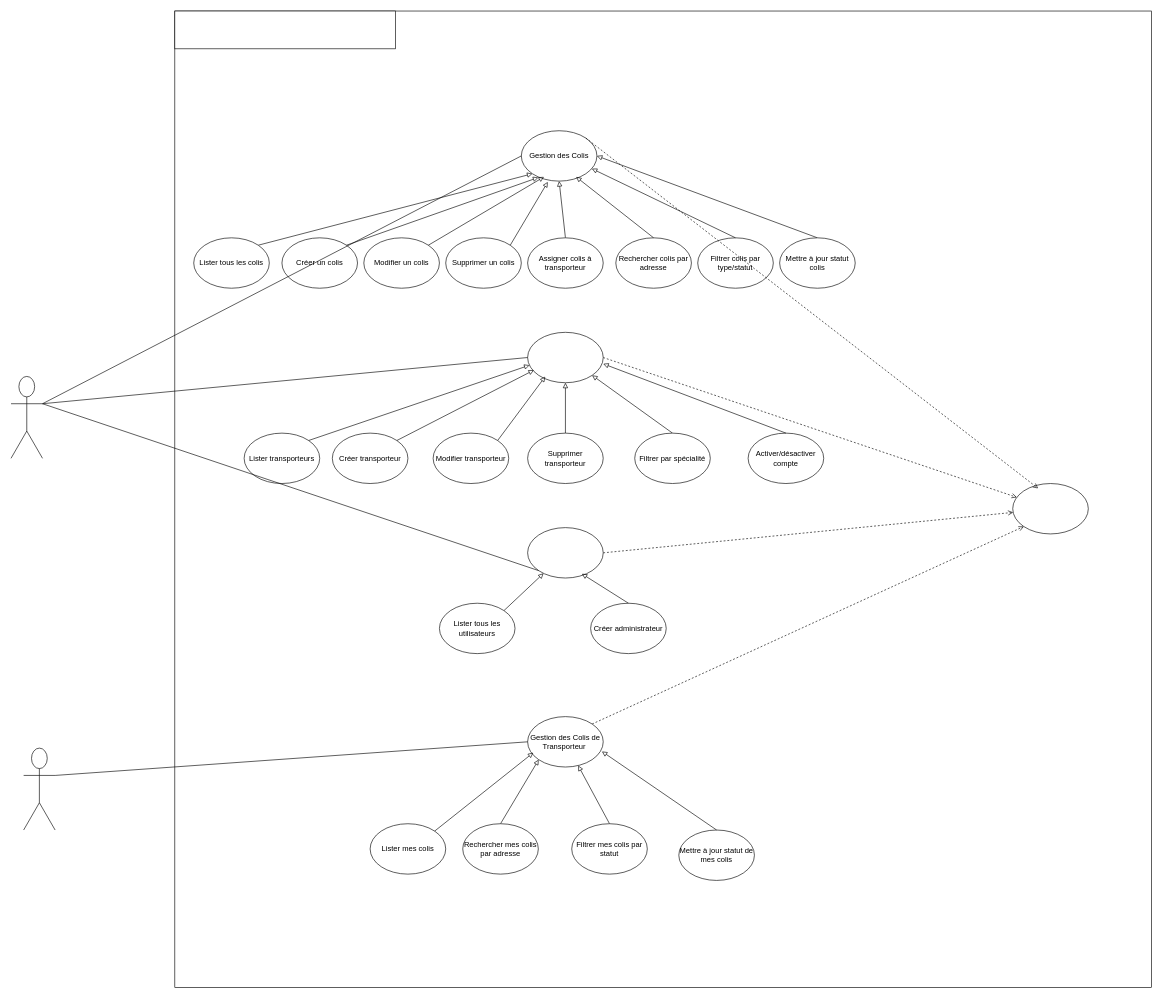
Image size: 1162x999. Some labels were removed from this diagram. The centre of each missing label's shape, as x and y in pixels:
Admin: the point at 26,417
Authentification: the point at 1050,508
Gestion des Transporteurs: the point at 565,357
Gestion des Utilisateurs: the point at 565,552
Système de Gestion de Colis et Transporteurs: the point at 284,29
Transporteur: the point at 39,788
